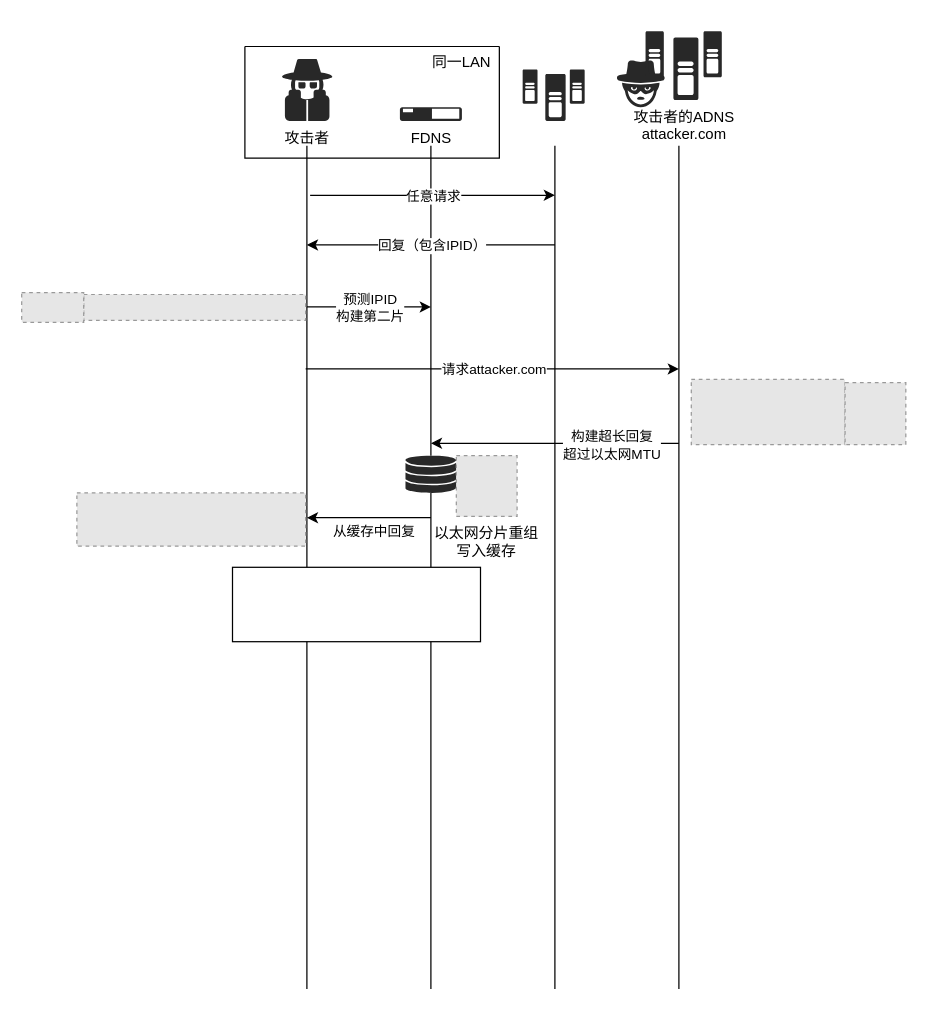
Image size: 928x1012. Some labels were removed from this diagram. Grey dashed boxes stand in for pictures. Each missing label, with the centre of its shape:
"RDNS" belongs at [553,94].
"后续请求victim.com时 FDNS就会回复a.t.k.r" belongs at [355,604].
